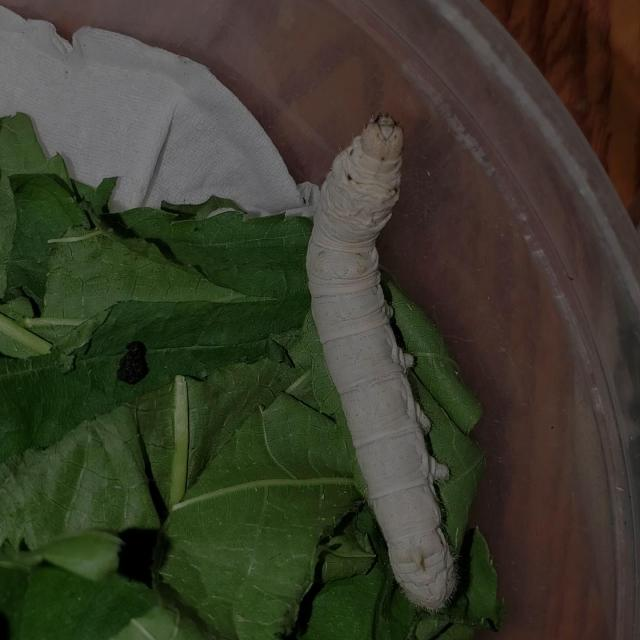Healthy: (294, 101, 474, 612)
